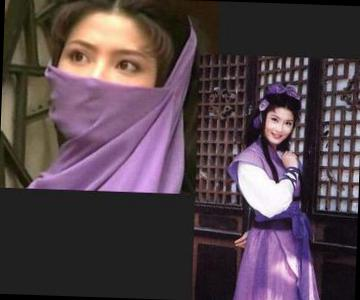NONE: (267, 113, 296, 146)
WRONG: (52, 31, 160, 147)
